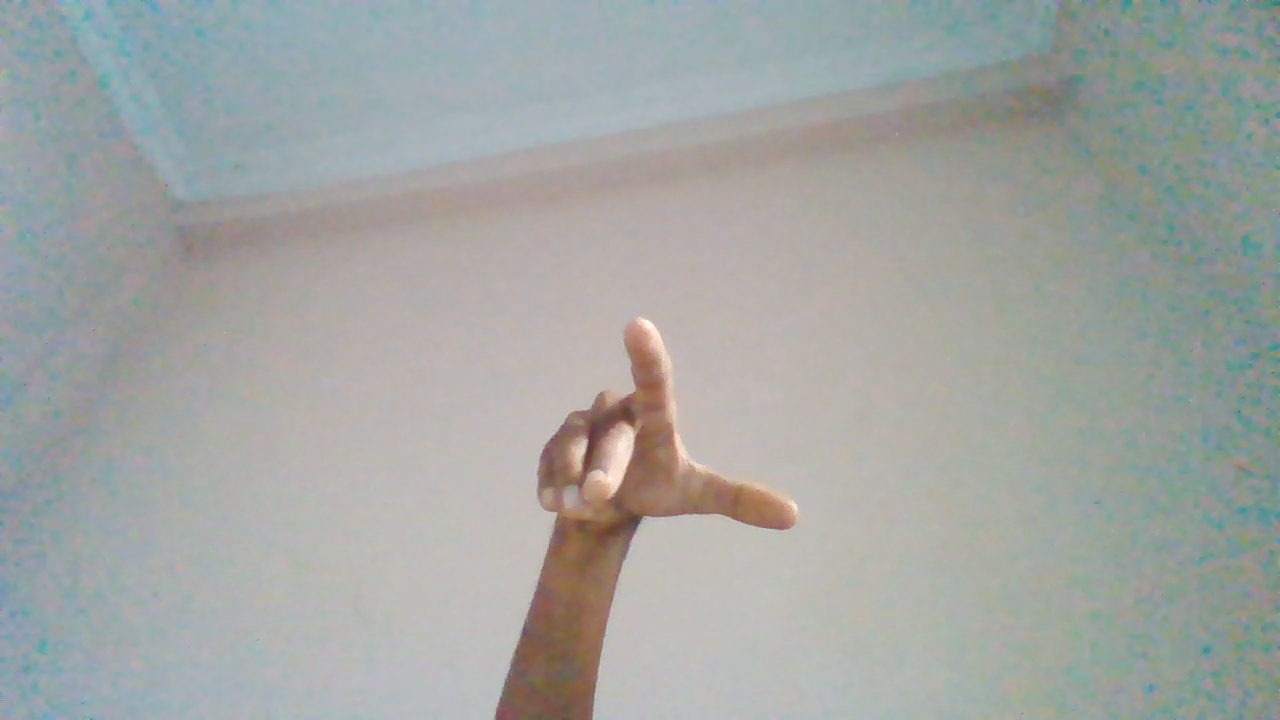ke: (531, 323, 802, 669)
